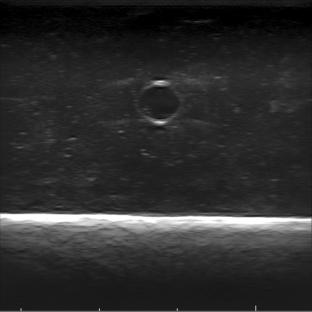vessel: (136, 80, 182, 125)
